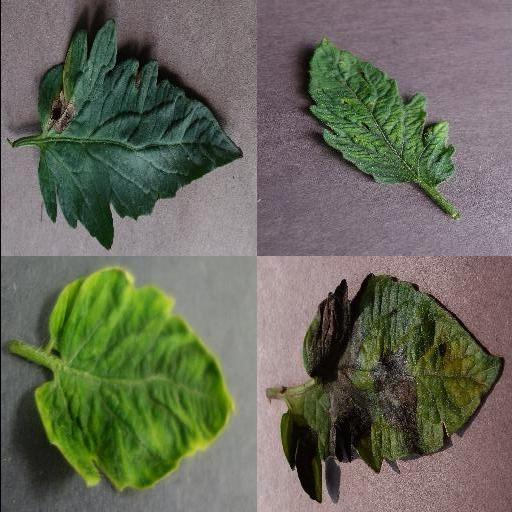Early Blight: (34, 18, 242, 250)
Late Blight: (279, 273, 503, 505)
Mosaic Virus: (306, 33, 456, 187)
Yellow Leaf Curl Virus: (35, 268, 239, 492)
